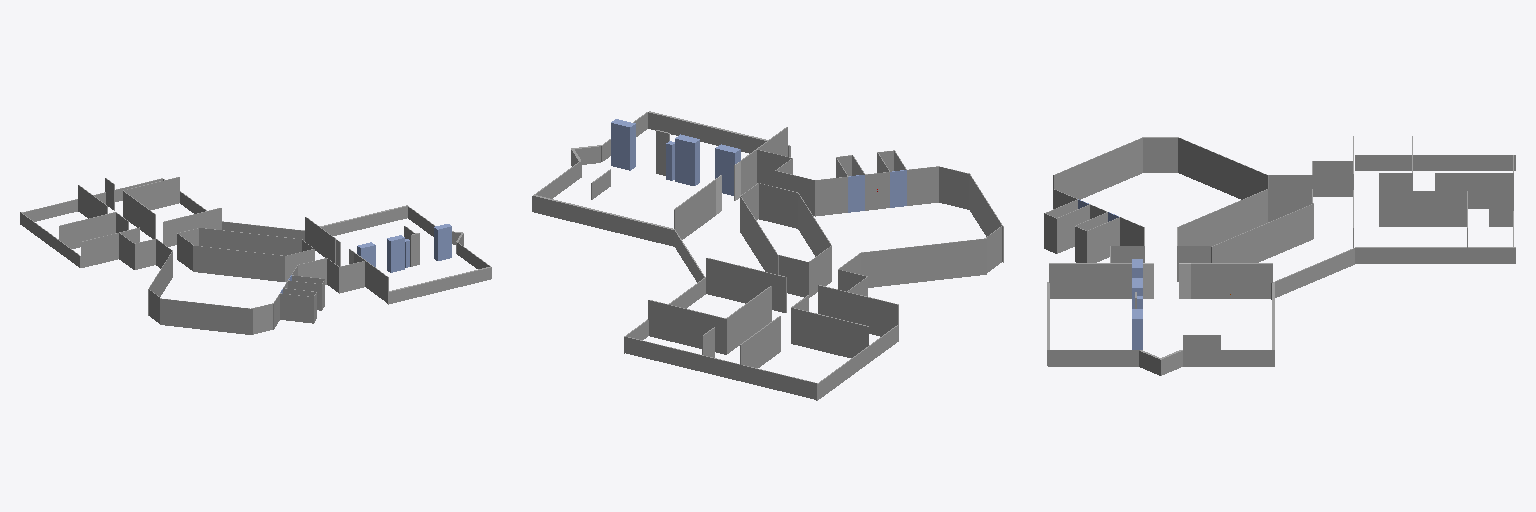
--- Facts derived from the render (not from the file) ---
3 views of the same robot in one strip: view 1: azimuth 30°, elevation 25°; view 2: azimuth 150°, elevation 25°; view 3: azimuth 270°, elevation 25° (orthographic).
Robot: ipa-apartment — 64 links, 63 joints (4 prismatic, 59 fixed); root link dummy_link; default pose: all joints at 0.
Links seen in each view (by area): view 1: wall_ext15, wall_ext13, wall_ext21, wall_06, wall_office_10, wall_office_01, wall_office_09, wall_office_00, wall_01, wall_office_04, wall_elv8, wall_office_05 (+11 smaller); view 2: wall_ext14, wall_office_04, wall_office_10, wall_office_00, wall_office_09, wall_01, wall_office_01, wall_06, wall_office_05, wall_00, wall_office_03, wall_ext6 (+21 smaller); view 3: wall_ext21, wall_office_05, wall_07, wall_ext14, wall_ext15, wall_00, wall_ext13, wall_office_02, wall_office_03, wall_office_07, wall_05, wall_02 (+12 smaller).
Boxes of the visible links, <box> form: wall_ext15: <box>160,298,252,334</box>; wall_ext13: <box>193,245,284,281</box>; wall_ext21: <box>199,228,302,255</box>; wall_06: <box>387,267,491,304</box>; wall_office_10: <box>59,212,115,248</box>; wall_office_01: <box>81,227,139,267</box>; wall_office_09: <box>123,177,179,209</box>; wall_office_00: <box>163,208,221,246</box>; wall_01: <box>304,205,407,235</box>; wall_office_04: <box>22,178,162,221</box>; wall_elv8: <box>280,293,313,323</box>; wall_office_05: <box>123,191,155,238</box>; wall_ext14: <box>861,238,986,287</box>; wall_office_04: <box>625,337,816,399</box>; wall_office_10: <box>791,308,868,357</box>; wall_office_00: <box>706,258,786,312</box>; wall_office_09: <box>648,300,725,354</box>; wall_01: <box>532,195,673,246</box>; wall_office_01: <box>818,285,898,336</box>; wall_06: <box>648,111,790,156</box>; wall_office_05: <box>726,286,771,354</box>; wall_00: <box>674,179,715,239</box>; wall_office_03: <box>816,325,898,400</box>; wall_ext6: <box>759,183,797,228</box>; wall_ext21: <box>1211,203,1313,262</box>; wall_office_05: <box>1379,191,1466,226</box>; wall_07: <box>1049,263,1131,298</box>; wall_ext14: <box>1178,137,1268,199</box>; wall_ext15: <box>1053,137,1142,208</box>; wall_00: <box>1191,263,1272,298</box>; wall_ext13: <box>1178,189,1267,246</box>; wall_office_02: <box>1355,247,1515,263</box>; wall_office_03: <box>1355,155,1515,170</box>; wall_office_07: <box>1435,173,1513,208</box>; wall_05: <box>1048,350,1139,366</box>; wall_02: <box>1183,350,1271,366</box>.
Bounding box of the posed robot: 24.78 × 24.04 × 2.41 m (x, y, z).
3 mesh visuals loaded from 3 distinct referenced files (3 Collada DAE).

The robot description file, URDF, robot "ipa-apartment":
<?xml version="1.0" ?>
<!-- =================================================================================== -->
<!-- |    This document was autogenerated by xacro from ipa-apartment.urdf.xacro       | -->
<!-- |    EDITING THIS FILE BY HAND IS NOT RECOMMENDED                                 | -->
<!-- =================================================================================== -->
<robot name="ipa-apartment" xmlns:controller="http://playerstage.sourceforge.net/gazebo/xmlschema/#controller" xmlns:interface="http://playerstage.sourceforge.net/gazebo/xmlschema/#interface" xmlns:sensor="http://playerstage.sourceforge.net/gazebo/xmlschema/#sensor" xmlns:xacro="http://ros.org/wiki/xacro">
  <material name="IPA/Blue">
    <color rgba="0.0 0.0 0.8 1.0"/>
  </material>
  <material name="IPA/Green">
    <color rgba="0.0 0.8 0.0 1.0"/>
  </material>
  <material name="IPA/Grey">
    <color rgba="0.7 0.7 0.7 1.0"/>
  </material>
  <material name="IPA/Grey2">
    <color rgba="0.81 0.81 0.81 1.0"/>
  </material>
  <material name="IPA/Red">
    <color rgba="0.8 0.0 0.0 1.0"/>
  </material>
  <material name="IPA/White">
    <color rgba="1.0 1.0 1.0 1.0"/>
  </material>
  <material name="IPA/Black">
    <color rgba="0.0 0.0 0.0 1.0"/>
  </material>
  <material name="IPA/Transparent">
    <color rgba="0.81 0.81 0.81 0.0"/>
  </material>
  <material name="IPA/LightBlue">
    <color rgba="0.624 0.698 0.858 1"/>
  </material>
  <!-- apartment -->
  <!-- office-->
  <!-- landing-->
  <link name="wall_ext15">
    <inertial>
      <origin xyz="0 0 0"/>
      <mass value="5.0"/>
      <inertia ixx="0.0" ixy="0.0" ixz="0.0" iyy="0.0" iyz="0.0" izz="0.0"/>
    </inertial>
    <visual>
      <origin xyz="0 0 0"/>
      <geometry>
        <box size="0.04 6.6 2"/>
      </geometry>
      <material name="IPA/Grey"/>
    </visual>
    <collision>
      <origin xyz="0 0 0"/>
      <geometry>
        <box size="0.04 6.6 2"/>
      </geometry>
    </collision>
  </link>
  <gazebo reference="wall_ext15">
    <material>IPA/WallApartment</material>
  </gazebo>
  <joint name="joint_wall_ext15" type="fixed">
    <origin rpy="0 0 0.7854" xyz="-3.15 -3.15 1.0"/>
    <parent link="origin_landing"/>
    <child link="wall_ext15"/>
  </joint>
  <link name="wall_ext16">
    <inertial>
      <origin xyz="0 0 0"/>
      <mass value="5.0"/>
      <inertia ixx="0.0" ixy="0.0" ixz="0.0" iyy="0.0" iyz="0.0" izz="0.0"/>
    </inertial>
    <visual>
      <origin xyz="0 0 0"/>
      <geometry>
        <box size="0.04 1.8 2"/>
      </geometry>
      <material name="IPA/Grey"/>
    </visual>
    <collision>
      <origin xyz="0 0 0"/>
      <geometry>
        <box size="0.04 1.8 2"/>
      </geometry>
    </collision>
  </link>
  <gazebo reference="wall_ext16">
    <material>IPA/WallApartment</material>
  </gazebo>
  <joint name="joint_wall_ext16" type="fixed">
    <origin rpy="0 0 0" xyz="-5.4 0 1.0"/>
    <parent link="origin_landing"/>
    <child link="wall_ext16"/>
  </joint>
  <link name="wall_ext17">
    <inertial>
      <origin xyz="0 0 0"/>
      <mass value="5.0"/>
      <inertia ixx="0.0" ixy="0.0" ixz="0.0" iyy="0.0" iyz="0.0" izz="0.0"/>
    </inertial>
    <visual>
      <origin xyz="0 0 0"/>
      <geometry>
        <box size="1.8 0.04 2"/>
      </geometry>
      <material name="IPA/Grey"/>
    </visual>
    <collision>
      <origin xyz="0 0 0"/>
      <geometry>
        <box size="1.8 0.04 2"/>
      </geometry>
    </collision>
  </link>
  <gazebo reference="wall_ext17">
    <material>IPA/WallApartment</material>
  </gazebo>
  <joint name="joint_wall_ext17" type="fixed">
    <origin rpy="0 0 0" xyz="0 -5.4 1.0"/>
    <parent link="origin_landing"/>
    <child link="wall_ext17"/>
  </joint>
  <link name="wall_ext21">
    <inertial>
      <origin xyz="0 0 0"/>
      <mass value="5.0"/>
      <inertia ixx="0.0" ixy="0.0" ixz="0.0" iyy="0.0" iyz="0.0" izz="0.0"/>
    </inertial>
    <visual>
      <origin xyz="0 0 0"/>
      <geometry>
        <box size="0.04 7.4 2"/>
      </geometry>
      <material name="IPA/Grey"/>
    </visual>
    <collision>
      <origin xyz="0 0 0"/>
      <geometry>
        <box size="0.04 7.4 2"/>
      </geometry>
    </collision>
  </link>
  <gazebo reference="wall_ext21">
    <material>IPA/WallApartment</material>
  </gazebo>
  <joint name="joint_wall_ext21" type="fixed">
    <origin rpy="0 0 0.7854" xyz="5.2 5.2 1.0"/>
    <parent link="origin_landing"/>
    <child link="wall_ext21"/>
  </joint>
  <link name="wall_ext22">
    <inertial>
      <origin xyz="0 0 0"/>
      <mass value="5.0"/>
      <inertia ixx="0.0" ixy="0.0" ixz="0.0" iyy="0.0" iyz="0.0" izz="0.0"/>
    </inertial>
    <visual>
      <origin xyz="0 0 0"/>
      <geometry>
        <box size="0.06 6 0.92"/>
      </geometry>
      <material name="IPA/Grey"/>
    </visual>
    <collision>
      <origin xyz="0 0 0"/>
      <geometry>
        <box size="0.06 6 0.92"/>
      </geometry>
    </collision>
  </link>
  <gazebo reference="wall_ext22">
    <material>IPA/WallApartment</material>
  </gazebo>
  <joint name="joint_wall_ext22" type="fixed">
    <origin rpy="0 0 0.7854" xyz="7.77 7.77 0.46"/>
    <parent link="origin_landing"/>
    <child link="wall_ext22"/>
  </joint>
  <!-- elevator-->
  <!-- cabinets-->
  <!-- kitchen-->
  <!-- wall_ipa-->
  <!--Parameters-->
  <link name="dummy_link">
    <inertial>
      <origin xyz="0 0 0"/>
      <mass value="5.0"/>
      <inertia ixx="0.0" ixy="0.0" ixz="0.0" iyy="0.0" iyz="0.0" izz="0.0"/>
    </inertial>
    <visual>
      <origin xyz="0 0 0"/>
      <geometry>
        <box size="0.00 0.00 0.00"/>
      </geometry>
    </visual>
    <collision>
      <origin xyz="0 0 0"/>
      <geometry>
        <box size="0.00 0.00 0.00"/>
      </geometry>
    </collision>
  </link>
  <link name="wall_00">
    <inertial>
      <origin xyz="0 0 0"/>
      <mass value="5.0"/>
      <inertia ixx="0.0" ixy="0.0" ixz="0.0" iyy="0.0" iyz="0.0" izz="0.0"/>
    </inertial>
    <visual>
      <origin xyz="0 0 0"/>
      <geometry>
        <box size="0.06 4.16 2"/>
      </geometry>
      <material name="IPA/Grey"/>
    </visual>
    <collision>
      <origin xyz="0 0 0"/>
      <geometry>
        <box size="0.06 4.16 2"/>
      </geometry>
    </collision>
  </link>
  <gazebo reference="wall_00">
    <material>IPA/WallApartment</material>
  </gazebo>
  <joint name="joint_wall_00" type="fixed">
    <origin rpy="0 0 0" xyz="-2.091 -0.45 1.0"/>
    <parent link="dummy_link"/>
    <child link="wall_00"/>
  </joint>
  <link name="wall_01">
    <inertial>
      <origin xyz="0 0 0"/>
      <mass value="5.0"/>
      <inertia ixx="0.0" ixy="0.0" ixz="0.0" iyy="0.0" iyz="0.0" izz="0.0"/>
    </inertial>
    <visual>
      <origin xyz="0 0 0"/>
      <geometry>
        <box size=" 8.2 0.15 0.92"/>
      </geometry>
      <material name="IPA/Grey"/>
    </visual>
    <collision>
      <origin xyz="0 0 0"/>
      <geometry>
        <box size="8.2 0.15 0.92"/>
      </geometry>
    </collision>
  </link>
  <gazebo reference="wall_01">
    <material>IPA/WallApartment</material>
  </gazebo>
  <joint name="joint_wall_01" type="fixed">
    <origin rpy="0 0 0" xyz="1.969 1.68 0.46"/>
    <parent link="dummy_link"/>
    <child link="wall_01"/>
  </joint>
  <link name="wall_02">
    <inertial>
      <origin xyz="0 0 0"/>
      <mass value="5.0"/>
      <inertia ixx="0.0" ixy="0.0" ixz="0.0" iyy="0.0" iyz="0.0" izz="0.0"/>
    </inertial>
    <visual>
      <origin xyz="0 0 0"/>
      <geometry>
        <box size="0.06 4.7 0.92"/>
      </geometry>
      <material name="IPA/Grey"/>
    </visual>
    <collision>
      <origin xyz="0 0 0"/>
      <geometry>
        <box size="0.06 4.7 0.92"/>
      </geometry>
    </collision>
  </link>
  <gazebo reference="wall_02">
    <material>IPA/WallApartment</material>
  </gazebo>
  <joint name="joint_wall_02" type="fixed">
    <origin rpy="0 0 0" xyz="6.029 -0.67 0.46"/>
    <parent link="dummy_link"/>
    <child link="wall_02"/>
  </joint>
  <link name="wall_03">
    <inertial>
      <origin xyz="0 0 0"/>
      <mass value="5.0"/>
      <inertia ixx="0.0" ixy="0.0" ixz="0.0" iyy="0.0" iyz="0.0" izz="0.0"/>
    </inertial>
    <visual>
      <origin xyz="0 0 0"/>
      <geometry>
        <box size=" 0.15 1.6 0.92"/>
      </geometry>
      <material name="IPA/Grey"/>
    </visual>
    <collision>
      <origin xyz="0 0 0"/>
      <geometry>
        <box size="0.15 1.5 0.92"/>
      </geometry>
    </collision>
  </link>
  <gazebo reference="wall_03">
    <material>IPA/WallApartment</material>
  </gazebo>
  <joint name="joint_wall_03" type="fixed">
    <origin rpy="0 0 0.785398" xyz="6.605 -3.57 0.46"/>
    <parent link="dummy_link"/>
    <child link="wall_03"/>
  </joint>
  <link name="wall_04">
    <inertial>
      <origin xyz="0 0 0"/>
      <mass value="5.0"/>
      <inertia ixx="0.0" ixy="0.0" ixz="0.0" iyy="0.0" iyz="0.0" izz="0.0"/>
    </inertial>
    <visual>
      <origin xyz="0 0 0"/>
      <geometry>
        <box size="0.15 1.55 0.92"/>
      </geometry>
      <material name="IPA/Grey"/>
    </visual>
    <collision>
      <origin xyz="0 0 0"/>
      <geometry>
        <box size="0.15 1.5 0.92"/>
      </geometry>
    </collision>
  </link>
  <gazebo reference="wall_04">
    <material>IPA/WallApartment</material>
  </gazebo>
  <joint name="joint_wall_04" type="fixed">
    <origin rpy="0 0 -0.785398" xyz="6.605 -4.57 0.46"/>
    <parent link="dummy_link"/>
    <child link="wall_04"/>
  </joint>
  <link name="wall_05">
    <inertial>
      <origin xyz="0 0 0"/>
      <mass value="5.0"/>
      <inertia ixx="0.0" ixy="0.0" ixz="0.0" iyy="0.0" iyz="0.0" izz="0.0"/>
    </inertial>
    <visual>
      <origin xyz="0 0 0"/>
      <geometry>
        <box size="0.06 4.7 0.92"/>
      </geometry>
      <material name="IPA/Grey"/>
    </visual>
    <collision>
      <origin xyz="0 0 0"/>
      <geometry>
        <box size="0.06 4.7 0.92"/>
      </geometry>
    </collision>
  </link>
  <gazebo reference="wall_05">
    <material>IPA/WallApartment</material>
  </gazebo>
  <joint name="joint_wall_05" type="fixed">
    <origin rpy="0 0 0" xyz="6.029 -7.47 0.46"/>
    <parent link="dummy_link"/>
    <child link="wall_05"/>
  </joint>
  <link name="wall_06">
    <inertial>
      <origin xyz="0 0 0"/>
      <mass value="5.0"/>
      <inertia ixx="0.0" ixy="0.0" ixz="0.0" iyy="0.0" iyz="0.0" izz="0.0"/>
    </inertial>
    <visual>
      <origin xyz="0 0 0"/>
      <geometry>
        <box size=" 8.2 0.15 0.92"/>
      </geometry>
      <material name="IPA/Grey"/>
    </visual>
    <collision>
      <origin xyz="0 0 0"/>
      <geometry>
        <box size="8.2 0.17 0.92"/>
      </geometry>
    </collision>
  </link>
  <gazebo reference="wall_06">
    <material>IPA/WallApartment</material>
  </gazebo>
  <joint name="joint_wall_06" type="fixed">
    <origin rpy="0 0 0" xyz="1.919 -9.82 0.46"/>
    <parent link="dummy_link"/>
    <child link="wall_06"/>
  </joint>
  <link name="wall_07">
    <inertial>
      <origin xyz="0 0 0"/>
      <mass value="5.0"/>
      <inertia ixx="0.0" ixy="0.0" ixz="0.0" iyy="0.0" iyz="0.0" izz="0.0"/>
    </inertial>
    <visual>
      <origin xyz="0 0 0"/>
      <geometry>
        <box size="0.06 4.7 2"/>
      </geometry>
      <material name="IPA/Grey"/>
    </visual>
    <collision>
      <origin xyz="0 0 0"/>
      <geometry>
        <box size="0.06 4.7 2"/>
      </geometry>
    </collision>
  </link>
  <gazebo reference="wall_07">
    <material>IPA/WallApartment</material>
  </gazebo>
  <joint name="joint_wall_07" type="fixed">
    <origin rpy="0 0 0" xyz="-2.091 -7.42 1.0"/>
    <parent link="dummy_link"/>
    <child link="wall_07"/>
  </joint>
  <link name="wall_08">
    <inertial>
      <origin xyz="0 0 0"/>
      <mass value="5.0"/>
      <inertia ixx="0.0" ixy="0.0" ixz="0.0" iyy="0.0" iyz="0.0" izz="0.0"/>
    </inertial>
    <visual>
      <origin xyz="0 0 0"/>
      <geometry>
        <box size="0.06 1.9 0.92"/>
      </geometry>
      <material name="IPA/Grey"/>
    </visual>
    <collision>
      <origin xyz="0 0 0"/>
      <geometry>
        <box size="0.06 1.9 0.92"/>
      </geometry>
    </collision>
  </link>
  <gazebo reference="wall_08">
    <material>IPA/WallApartment</material>
  </gazebo>
  <joint name="joint_wall_08" type="fixed">
    <origin rpy="0 0 0" xyz="4.229 -1.97 0.46"/>
    <parent link="dummy_link"/>
    <child link="wall_08"/>
  </joint>
  <link name="door_00">
    <inertial>
      <origin xyz="0 0 0"/>
      <mass value="5.0"/>
      <inertia ixx="0.0" ixy="0.0" ixz="0.0" iyy="0.0" iyz="0.0" izz="0.0"/>
    </inertial>
    <visual>
      <origin xyz="0 0 0"/>
      <geometry>
        <box size="0.04 0.62 2"/>
      </geometry>
      <material name="IPA/Transparent"/>
    </visual>
    <collision>
      <origin xyz="0 0 0"/>
      <geometry>
        <box size="0.04 0.62 2"/>
      </geometry>
    </collision>
  </link>
  <gazebo reference="door_00">
    <material>IPA/Wall2</material>
  </gazebo>
  <joint name="joint_door_00" type="fixed">
    <origin rpy="0 0 0" xyz="-2.091 -2.85 1.0"/>
    <parent link="dummy_link"/>
    <child link="door_00"/>
  </joint>
  <link name="door_01">
    <inertial>
      <origin xyz="0 0 0"/>
      <mass value="5.0"/>
      <inertia ixx="0.0" ixy="0.0" ixz="0.0" iyy="0.0" iyz="0.0" izz="0.0"/>
    </inertial>
    <visual>
      <origin xyz="0 0 0"/>
      <geometry>
        <box size="0.04 0.62 2"/>
      </geometry>
      <material name="IPA/Transparent"/>
    </visual>
    <collision>
      <origin xyz="0 0 0"/>
      <geometry>
        <box size="0.04 0.62 2"/>
      </geometry>
    </collision>
  </link>
  <gazebo reference="door_01">
    <material>IPA/Wall2</material>
  </gazebo>
  <joint name="joint_door_01" type="fixed">
    <origin rpy="0 0 0" xyz="-2.091 -4.75 1.0"/>
    <parent link="dummy_link"/>
    <child link="door_01"/>
  </joint>
  <link name="origin_landing">
    <inertial>
      <origin xyz="0 0 0"/>
      <mass value="0.0"/>
      <inertia ixx="0.0" ixy="0.0" ixz="0.0" iyy="0.0" iyz="0.0" izz="0.0"/>
    </inertial>
    <visual>
      <origin xyz="0 0 0"/>
      <geometry>
        <box size="0 0 0"/>
      </geometry>
    </visual>
    <collision>
      <origin xyz="0 0 0"/>
      <geometry>
        <box size="0 0 0"/>
      </geometry>
    </collision>
  </link>
  <joint name="joint_origin_landing" type="fixed">
    <origin rpy="0 0 0" xyz="-11.931 -4.07 0"/>
    <parent link="dummy_link"/>
    <child link="origin_landing"/>
  </joint>
  <link name="wall_ext2">
    <inertial>
      <origin xyz="0 0 0"/>
      <mass value="5.0"/>
      <inertia ixx="0.0" ixy="0.0" ixz="0.0" iyy="0.0" iyz="0.0" izz="0.0"/>
    </inertial>
    <visual>
      <origin xyz="0 0 0"/>
      <geometry>
        <box size="2.1 0.04 2"/>
      </geometry>
      <material name="IPA/Grey"/>
    </visual>
    <collision>
      <origin xyz="0 0 0"/>
      <geometry>
        <box size="2.1 0.04 2"/>
      </geometry>
    </collision>
  </link>
  <gazebo reference="wall_ext2">
    <material>IPA/WallApartment</material>
  </gazebo>
  <joint name="joint_wall_ext2" type="fixed">
    <origin rpy="0 0 0" xyz="8.8 -2.565 1.0"/>
    <parent link="origin_landing"/>
    <child link="wall_ext2"/>
  </joint>
  <link name="wall_ext3">
    <inertial>
      <origin xyz="0 0 0"/>
      <mass value="5.0"/>
      <inertia ixx="0.0" ixy="0.0" ixz="0.0" iyy="0.0" iyz="0.0" izz="0.0"/>
    </inertial>
    <visual>
      <origin xyz="0 0 0"/>
      <geometry>
        <box size="0.04 1.73 2"/>
      </geometry>
      <material name="IPA/Grey"/>
    </visual>
    <collision>
      <origin xyz="0 0 0"/>
      <geometry>
        <box size="0.04 1.73 2"/>
      </geometry>
    </collision>
  </link>
  <gazebo reference="wall_ext3">
    <material>IPA/WallApartment</material>
  </gazebo>
  <joint name="joint_wall_ext3" type="fixed">
    <origin rpy="0 0 0" xyz="7.75 -1.7 1.0"/>
    <parent link="origin_landing"/>
    <child link="wall_ext3"/>
  </joint>
  <link name="wall_ext4">
    <inertial>
      <origin xyz="0 0 0"/>
      <mass value="5.0"/>
      <inertia ixx="0.0" ixy="0.0" ixz="0.0" iyy="0.0" iyz="0.0" izz="0.0"/>
    </inertial>
    <visual>
      <origin xyz="0 0 0"/>
      <geometry>
        <box size="0.04 1.73 2"/>
      </geometry>
      <material name="IPA/Grey"/>
    </visual>
    <collision>
      <origin xyz="0 0 0"/>
      <geometry>
        <box size="0.04 1.73 2"/>
      </geometry>
    </collision>
  </link>
  <gazebo reference="wall_ext4">
    <material>IPA/WallApartment</material>
  </gazebo>
  <joint name="joint_wall_ext4" type="fixed">
    <origin rpy="0 0 0" xyz="7.75 1.7 1.0"/>
    <parent link="origin_landing"/>
    <child link="wall_ext4"/>
  </joint>
  <link name="wall_ext5">
    <inertial>
      <origin xyz="0 0 0"/>
      <mass value="5.0"/>
      <inertia ixx="0.0" ixy="0.0" ixz="0.0" iyy="0.0" iyz="0.0" izz="0.0"/>
    </inertial>
    <visual>
      <origin xyz="0 0 0"/>
      <geometry>
        <box size="2.34 0.04 2"/>
      </geometry>
      <material name="IPA/Grey"/>
    </visual>
    <collision>
      <origin xyz="0 0 0"/>
      <geometry>
        <box size="6.73 0.04 2"/>
      </geometry>
    </collision>
  </link>
  <gazebo reference="wall_ext5">
    <material>IPA/WallApartment</material>
  </gazebo>
  <joint name="joint_wall_ext5" type="fixed">
    <origin rpy="0 0 0" xyz="6.6 -0.85 1.0"/>
    <parent link="origin_landing"/>
    <child link="wall_ext5"/>
  </joint>
  <link name="wall_ext6">
    <inertial>
      <origin xyz="0 0 0"/>
      <mass value="5.0"/>
      <inertia ixx="0.0" ixy="0.0" ixz="0.0" iyy="0.0" iyz="0.0" izz="0.0"/>
    </inertial>
    <visual>
      <origin xyz="0 0 0"/>
      <geometry>
        <box size="2.34 0.04 2"/>
      </geometry>
      <material name="IPA/Grey"/>
    </visual>
    <collision>
      <origin xyz="0 0 0"/>
      <geometry>
        <box size="2.34 0.04 2"/>
      </geometry>
    </collision>
  </link>
  <gazebo reference="wall_ext6">
    <material>IPA/WallApartment</material>
  </gazebo>
  <joint name="joint_wall_ext6" type="fixed">
    <origin rpy="0 0 0" xyz="6.6 0.85 1.0"/>
    <parent link="origin_landing"/>
    <child link="wall_ext6"/>
  </joint>
  <link name="wall_ext8">
    <inertial>
      <origin xyz="0 0 0"/>
      <mass value="5.0"/>
      <inertia ixx="0.0" ixy="0.0" ixz="0.0" iyy="0.0" iyz="0.0" izz="0.0"/>
    </inertial>
    <visual>
      <origin xyz="0 0 0"/>
      <geometry>
        <box size="0.04 2.1 2"/>
      </geometry>
      <material name="IPA/Grey"/>
    </visual>
    <collision>
      <origin xyz="0 0 0"/>
      <geometry>
        <box size="0.04 2.1 2"/>
      </geometry>
    </collision>
  </link>
  <gazebo reference="wall_ext8">
    <material>IPA/WallApartment</material>
  </gazebo>
  <joint name="joint_wall_ext8" type="fixed">
    <origin rpy="0 0 0" xyz="-2.565 8.8 1.0"/>
    <parent link="origin_landing"/>
    <child link="wall_ext8"/>
  </joint>
  <link name="wall_ext9">
    <inertial>
      <origin xyz="0 0 0"/>
      <mass value="5.0"/>
      <inertia ixx="0.0" ixy="0.0" ixz="0.0" iyy="0.0" iyz="0.0" izz="0.0"/>
    </inertial>
    <visual>
      <origin xyz="0 0 0"/>
      <geometry>
        <box size="1.73 0.04 2"/>
      </geometry>
      <material name="IPA/Grey"/>
    </visual>
    <collision>
      <origin xyz="0 0 0"/>
      <geometry>
        <box size="1.73 0.04 2"/>
      </geometry>
    </collision>
  </link>
  <gazebo reference="wall_ext9">
    <material>IPA/WallApartment</material>
  </gazebo>
  <joint name="joint_wall_ext9" type="fixed">
    <origin rpy="0 0 0" xyz="-1.7 7.75 1.0"/>
    <parent link="origin_landing"/>
    <child link="wall_ext9"/>
  </joint>
  <link name="wall_ext10">
    <inertial>
      <origin xyz="0 0 0"/>
      <mass value="5.0"/>
      <inertia ixx="0.0" ixy="0.0" ixz="0.0" iyy="0.0" iyz="0.0" izz="0.0"/>
    </inertial>
    <visual>
      <origin xyz="0 0 0"/>
      <geometry>
        <box size="1.73 0.04 2"/>
      </geometry>
      <material name="IPA/Grey"/>
    </visual>
    <collision>
      <origin xyz="0 0 0"/>
      <geometry>
        <box size="1.73 0.04 2"/>
      </geometry>
    </collision>
  </link>
  <gazebo reference="wall_ext10">
    <material>IPA/WallApartment</material>
  </gazebo>
  <joint name="joint_wall_ext10" type="fixed">
    <origin rpy="0 0 0" xyz="1.7 7.75 1.0"/>
    <parent link="origin_landing"/>
    <child link="wall_ext10"/>
  </joint>
  <link name="wall_ext11">
    <inertial>
      <origin xyz="0 0 0"/>
      <mass value="5.0"/>
      <inertia ixx="0.0" ixy="0.0" ixz="0.0" iyy="0.0" iyz="0.0" izz="0.0"/>
    </inertial>
    <visual>
      <origin xyz="0 0 0"/>
      <geometry>
        <box size="0.04 2.34 2"/>
      </geometry>
      <material name="IPA/Grey"/>
    </visual>
    <collision>
      <origin xyz="0 0 0"/>
      <geometry>
        <box size="0.04 2.34 2"/>
      </geometry>
    </collision>
  </link>
  <gazebo reference="wall_ext11">
    <material>IPA/WallApartment</material>
  </gazebo>
  <joint name="joint_wall_ext11" type="fixed">
    <origin rpy="0 0 0" xyz="-0.85 6.6 1.0"/>
    <parent link="origin_landing"/>
    <child link="wall_ext11"/>
  </joint>
  <link name="wall_ext12">
    <inertial>
      <origin xyz="0 0 0"/>
      <mass value="5.0"/>
      <inertia ixx="0.0" ixy="0.0" ixz="0.0" iyy="0.0" iyz="0.0" izz="0.0"/>
    </inertial>
    <visual>
      <origin xyz="0 0 0"/>
      <geometry>
        <box size="0.04 2.34 2"/>
      </geometry>
      <material name="IPA/Grey"/>
    </visual>
    <collision>
      <origin xyz="0 0 0"/>
      <geometry>
        <box size="0.04 2.34 2"/>
      </geometry>
    </collision>
  </link>
  <gazebo reference="wall_ext12">
    <material>IPA/WallApartment</material>
  </gazebo>
  <joint name="joint_wall_ext12" type="fixed">
    <origin rpy="0 0 0" xyz="0.85 6.6 1.0"/>
    <parent link="origin_landing"/>
    <child link="wall_ext12"/>
  </joint>
  <link name="wall_ext13">
    <inertial>
      <origin xyz="0 0 0"/>
      <mass value="5.0"/>
      <inertia ixx="0.0" ixy="0.0" ixz="0.0" iyy="0.0" iyz="0.0" izz="0.0"/>
    </inertial>
    <visual>
      <origin xyz="0 0 0"/>
      <geometry>
        <box size="0.04 6.6 2"/>
      </geometry>
      <material name="IPA/Grey"/>
    </visual>
    <collision>
      <origin xyz="0 0 0"/>
      <geometry>
        <box size="0.04 6.6 2"/>
      </geometry>
    </collision>
  </link>
  <gazebo reference="wall_ext13">
    <material>IPA/WallApartment</material>
  </gazebo>
  <joint name="joint_wall_ext13" type="fixed">
    <origin rpy="0 0 0.7854" xyz="3.15 3.15 1.0"/>
    <parent link="origin_landing"/>
    <child link="wall_ext13"/>
  </joint>
  <link name="wall_ext14">
    <inertial>
      <origin xyz="0 0 0"/>
      <mass value="5.0"/>
      <inertia ixx="0.0" ixy="0.0" ixz="0.0" iyy="0.0" iyz="0.0" izz="0.0"/>
    </inertial>
    <visual>
      <origin xyz="0 0 0"/>
      <geometry>
        <box size="0.04 6.6 2"/>
      </geometry>
      <material name="IPA/Grey"/>
    </visual>
    <collision>
      <origin xyz="0 0 0"/>
      <geometry>
        <box size="0.04 6.6 2"/>
      </geometry>
    </collision>
  </link>
  <gazebo reference="wall_ext14">
    <material>IPA/WallApartment</material>
  </gazebo>
  <joint name="joint_wall_ext14" type="fixed">
    <origin rpy="0 0 -0.7854" xyz="-3.15 3.15 1.0"/>
    <parent link="origin_landing"/>
    <child link="wall_ext14"/>
  </joint>
  <link name="origin_office">
    <inertial>
      <origin xyz="0 0 0"/>
      <mass value="0.0"/>
      <inertia ixx="0.0" ixy="0.0" ixz="0.0" iyy="0.0" iyz="0.0" izz="0.0"/>
    </inertial>
    <visual>
      <origin xyz="0 0 0"/>
      <geometry>
        <box size="0 0 0"/>
      </geometry>
    </visual>
    <collision>
      <origin xyz="0 0 0"/>
      <geometry>
        <box size="0 0 0"/>
      </geometry>
    </collision>
  </link>
  <joint name="joint_origin_office" type="fixed">
    <origin rpy="0 0 0" xyz="0 14 0"/>
    <parent link="origin_landing"/>
    <child link="origin_office"/>
  </joint>
  <link name="wall_office_00">
    <inertial>
      <origin xyz="0 0 0"/>
      <mass value="5.0"/>
      <inertia ixx="0.0" ixy="0.0" ixz="0.0" iyy="0.0" iyz="0.0" izz="0.0"/>
    </inertial>
    <visual>
      <origin xyz="0 0 0"/>
      <geometry>
        <box size="4.65 0.06 2"/>
      </geometry>
      <material name="IPA/Grey"/>
    </visual>
    <collision>
      <origin xyz="0 0 0"/>
      <geometry>
        <box size="4.65 0.06 2"/>
      </geometry>
    </collision>
  </link>
  <gazebo reference="wall_office_00">
    <material>IPA/WallApartment</material>
  </gazebo>
  <joint name="joint_wall_office_00" type="fixed">
    <origin rpy="0 0 0" xyz="3.25 -4.15 1.0"/>
    <parent link="origin_office"/>
    <child link="wall_office_00"/>
  </joint>
  <link name="wall_office_01">
    <inertial>
      <origin xyz="0 0 0"/>
      <mass value="5.0"/>
      <inertia ixx="0.0" ixy="0.0" ixz="0.0" iyy="0.0" iyz="0.0" izz="0.0"/>
    </inertial>
    <visual>
      <origin xyz="0 0 0"/>
      <geometry>
        <box size="4.65 0.06 2"/>
      </geometry>
      <material name="IPA/Grey"/>
    </visual>
    <collision>
      <origin xyz="0 0 0"/>
      <geometry>
        <box size="4.65 0.06 2"/>
      </geometry>
    </collision>
  </link>
  <gazebo reference="wall_office_01">
    <material>IPA/WallApartment</material>
  </gazebo>
  <joint name="joint_wall_office_01" type="fixed">
    <origin rpy="0 0 0" xyz="-3.25 -4.15 1.0"/>
    <parent link="origin_office"/>
    <child link="wall_office_01"/>
  </joint>
  <link name="wall_office_02">
    <inertial>
      <origin xyz="0 0 0"/>
      <mass value="5.0"/>
      <inertia ixx="0.0" ixy="0.0" ixz="0.0" iyy="0.0" iyz="0.0" izz="0.0"/>
    </inertial>
    <visual>
      <origin xyz="0 0 0"/>
      <geometry>
        <box size="0.06 8.2 0.92"/>
      </geometry>
      <material name="IPA/Grey"/>
    </visual>
    <collision>
      <origin xyz="0 0 0"/>
      <geometry>
        <box size="0.06 8.2 0.92"/>
      </geometry>
    </collision>
  </link>
  <gazebo reference="wall_office_02">
    <material>IPA/WallApartment</material>
  </gazebo>
  <joint name="joint_wall_office_02" type="fixed">
    <origin rpy="0 0 0" xyz="5.6 0 0.46"/>
    <parent link="origin_office"/>
    <child link="wall_office_02"/>
  </joint>
  <link name="wall_office_03">
    <inertial>
      <origin xyz="0 0 0"/>
      <mass value="5.0"/>
      <inertia ixx="0.0" ixy="0.0" ixz="0.0" iyy="0.0" iyz="0.0" izz="0.0"/>
    </inertial>
    <visual>
      <origin xyz="0 0 0"/>
      <geometry>
        <box size="0.06 8.2 0.92"/>
      </geometry>
      <material name="IPA/Grey"/>
    </visual>
    <collision>
      <origin xyz="0 0 0"/>
      <geometry>
        <box size="0.06 8.2 0.92"/>
      </geometry>
    </collision>
  </link>
  <gazebo reference="wall_office_03">
    <material>IPA/WallApartment</material>
  </gazebo>
  <joint name="joint_wall_office_03" type="fixed">
    <origin rpy="0 0 0" xyz="-5.6 0 0.46"/>
    <parent link="origin_office"/>
    <child link="wall_office_03"/>
  </joint>
  <link name="wall_office_04">
    <inertial>
      <origin xyz="0 0 0"/>
      <mass value="5.0"/>
      <inertia ixx="0.0" ixy="0.0" ixz="0.0" iyy="0.0" iyz="0.0" izz="0.0"/>
    </inertial>
    <visual>
      <origin xyz="0 0 0"/>
      <geometry>
        <box size="11.2 0.06 0.92"/>
      </geometry>
      <material name="IPA/Grey"/>
    </visual>
    <collision>
      <origin xyz="0 0 0"/>
      <geometry>
        <box size="11.2 0.06 0.92"/>
      </geometry>
    </collision>
  </link>
  <gazebo reference="wall_office_04">
    <material>IPA/WallApartment</material>
  </gazebo>
  <joint name="joint_wall_office_04" type="fixed">
    <origin rpy="0 0 0" xyz="0 4 0.46"/>
    <parent link="origin_office"/>
    <child link="wall_office_04"/>
  </joint>
  <link name="wall_office_05">
    <inertial>
      <origin xyz="0 0 0"/>
      <mass value="5.0"/>
      <inertia ixx="0.0" ixy="0.0" ixz="0.0" iyy="0.0" iyz="0.0" izz="0.0"/>
    </inertial>
    <visual>
      <origin xyz="0 0 0"/>
      <geometry>
        <box size="0.06 4.51 2"/>
      </geometry>
      <material name="IPA/Grey"/>
    </visual>
    <collision>
      <origin xyz="0 0 0"/>
      <geometry>
        <box size="0.06 4.51 2"/>
      </geometry>
    </collision>
  </link>
  <gazebo reference="wall_office_05">
    <material>IPA/WallApartment</material>
  </gazebo>
  <joint name="joint_wall_office_05" type="fixed">
    <origin rpy="0 0 0" xyz="1.09 -0.615 1.0"/>
    <parent link="origin_office"/>
    <child link="wall_office_05"/>
  </joint>
  <link name="wall_office_06">
    <inertial>
      <origin xyz="0 0 0"/>
      <mass value="5.0"/>
      <inertia ixx="0.0" ixy="0.0" ixz="0.0" iyy="0.0" iyz="0.0" izz="0.0"/>
    </inertial>
    <visual>
      <origin xyz="0 0 0"/>
      <geometry>
        <box size="0.06 1.23 2"/>
      </geometry>
      <material name="IPA/Grey"/>
    </visual>
    <collision>
      <origin xyz="0 0 0"/>
      <geometry>
        <box size="0.06 1.23 2"/>
      </geometry>
    </collision>
  </link>
  <gazebo reference="wall_office_06">
    <material>IPA/WallApartment</material>
  </gazebo>
  <joint name="joint_wall_office_06" type="fixed">
    <origin rpy="0 0 0" xyz="1.09 3.385 1.0"/>
    <parent link="origin_office"/>
    <child link="wall_office_06"/>
  </joint>
  <link name="wall_office_07">
    <inertial>
      <origin xyz="0 0 0"/>
      <mass value="5.0"/>
      <inertia ixx="0.0" ixy="0.0" ixz="0.0" iyy="0.0" iyz="0.0" izz="0.0"/>
    </inertial>
    <visual>
      <origin xyz="0 0 0"/>
      <geometry>
        <box size="0.06 4.01 2"/>
      </geometry>
      <material name="IPA/Grey"/>
    </visual>
    <collision>
      <origin xyz="0 0 0"/>
      <geometry>
        <box size="0.06 4.01 2"/>
      </geometry>
    </collision>
  </link>
  <gazebo reference="wall_office_07">
    <material>IPA/WallApartment</material>
  </gazebo>
  <joint name="joint_wall_office_07" type="fixed">
    <origin rpy="0 0 0" xyz="-1.09 2 1.0"/>
    <parent link="origin_office"/>
    <child link="wall_office_07"/>
  </joint>
  <link name="wall_office_08">
    <inertial>
      <origin xyz="0 0 0"/>
      <mass value="5.0"/>
      <inertia ixx="0.0" ixy="0.0" ixz="0.0" iyy="0.0" iyz="0.0" izz="0.0"/>
    </inertial>
    <visual>
      <origin xyz="0 0 0"/>
      <geometry>
        <box size="0.06 1.73 2"/>
      </geometry>
      <material name="IPA/Grey"/>
    </visual>
    <collision>
      <origin xyz="0 0 0"/>
      <geometry>
        <box size="0.06 1.73 2"/>
      </geometry>
    </collision>
  </link>
  <gazebo reference="wall_office_08">
    <material>IPA/WallApartment</material>
  </gazebo>
  <joint name="joint_wall_office_08" type="fixed">
    <origin rpy="0 0 0" xyz="-1.09 -2 1.0"/>
    <parent link="origin_office"/>
    <child link="wall_office_08"/>
  </joint>
  <link name="wall_office_09">
    <inertial>
      <origin xyz="0 0 0"/>
      <mass value="5.0"/>
      <inertia ixx="0.0" ixy="0.0" ixz="0.0" iyy="0.0" iyz="0.0" izz="0.0"/>
    </inertial>
    <visual>
      <origin xyz="0 0 0"/>
      <geometry>
        <box size="4.5 0.06 2"/>
      </geometry>
      <material name="IPA/Grey"/>
    </visual>
    <collision>
      <origin xyz="0 0 0"/>
      <geometry>
        <box size="4.5 0.06 2"/>
      </geometry>
    </collision>
  </link>
  <gazebo reference="wall_office_09">
    <material>IPA/WallApartment</material>
  </gazebo>
  <joint name="joint_wall_office_09" type="fixed">
    <origin rpy="0 0 0" xyz="3.35 1.64 1.0"/>
    <parent link="origin_office"/>
    <child link="wall_office_09"/>
  </joint>
  <link name="wall_office_10">
    <inertial>
      <origin xyz="0 0 0"/>
      <mass value="5.0"/>
      <inertia ixx="0.0" ixy="0.0" ixz="0.0" iyy="0.0" iyz="0.0" izz="0.0"/>
    </inertial>
    <visual>
      <origin xyz="0 0 0"/>
      <geometry>
        <box size="4.5 0.06 2"/>
      </geometry>
      <material name="IPA/Grey"/>
    </visual>
    <collision>
      <origin xyz="0 0 0"/>
      <geometry>
        <box size="4.5 0.06 2"/>
      </geometry>
    </collision>
  </link>
  <gazebo reference="wall_office_10">
    <material>IPA/WallApartment</material>
  </gazebo>
  <joint name="joint_wall_office_10" type="fixed">
    <origin rpy="0 0 0" xyz="-3.35 -1.14 1.0"/>
    <parent link="origin_office"/>
    <child link="wall_office_10"/>
  </joint>
  <link name="origin_elevator">
    <inertial>
      <origin xyz="0 0 0"/>
      <mass value="0.0"/>
      <inertia ixx="0.0" ixy="0.0" ixz="0.0" iyy="0.0" iyz="0.0" izz="0.0"/>
    </inertial>
    <visual>
      <origin xyz="0 0 0"/>
      <geometry>
        <box size="0 0 0"/>
      </geometry>
    </visual>
    <collision>
      <origin xyz="0 0 0"/>
      <geometry>
        <box size="0 0 0"/>
      </geometry>
    </collision>
  </link>
  <joint name="joint_origin_elevator" type="fixed">
    <origin rpy="0 0 -0.7853981" xyz="3.15 -3.15 1.0"/>
    <parent link="origin_landing"/>
    <child link="origin_elevator"/>
  </joint>
  <link name="elevator_left">
    <inertial>
      <origin xyz="0 0 0"/>
      <mass value="5.0"/>
      <inertia ixx="0.0" ixy="0.0" ixz="0.0" iyy="0.0" iyz="0.0" izz="0.0"/>
    </inertial>
    <visual>
      <origin xyz="0 0 0"/>
      <geometry>
        <box size="0.04 0.87 2"/>
      </geometry>
      <material name="IPA/LightBlue"/>
    </visual>
    <collision>
      <origin xyz="0 0 0"/>
      <geometry>
        <box size="0.04 0.87 2"/>
      </geometry>
    </collision>
  </link>
  <gazebo reference="elevator_left">
    <material>IPA/Wall2</material>
  </gazebo>
  <joint name="elevator_left_joint" type="prismatic">
    <origin rpy="0 0 0" xyz="0 1.085 0"/>
    <parent link="origin_elevator"/>
    <child link="elevator_left"/>
    <axis xyz="0 1 0"/>
    <calibration rising="0.0"/>
    <dynamics damping="0.0" friction="0.0"/>
    <limit effort="100" lower="0" upper="0.87" velocity="1.0"/>
    <!--safety_controller k_velocity="10"/-->
  </joint>
  <transmission name="elevator_left_trans" type="pr2_mechanism_model/SimpleTransmission">
    <actuator name="elevator_left_motor"/>
    <joint name="elevator_left_joint"/>
    <mechanicalReduction>1</mechanicalReduction>
  </transmission>
  <link name="wall_elv5">
    <inertial>
      <origin xyz="0 0 0"/>
      <mass value="5.0"/>
      <inertia ixx="0.0" ixy="0.0" ixz="0.0" iyy="0.0" iyz="0.0" izz="0.0"/>
    </inertial>
    <visual>
      <origin xyz="0 0 0"/>
      <geometry>
        <box size="2.4 0.04 2"/>
      </geometry>
      <material name="IPA/Grey"/>
    </visual>
    <collision>
      <origin xyz="0 0 0"/>
      <geometry>
        <box size="2.4 0.04 2"/>
      </geometry>
    </collision>
  </link>
  <gazebo reference="wall_elv5">
    <material>IPA/WallApartment</material>
  </gazebo>
  <joint name="joint_wall_elv5" type="fixed">
    <origin rpy="0 0 0" xyz="1.2 1.52 0"/>
    <parent link="origin_elevator"/>
    <child link="wall_elv5"/>
  </joint>
  <link name="wall_elv6">
    <inertial>
      <origin xyz="0 0 0"/>
      <mass value="5.0"/>
      <inertia ixx="0.0" ixy="0.0" ixz="0.0" iyy="0.0" iyz="0.0" izz="0.0"/>
    </inertial>
    <visual>
      <origin xyz="0 0 0"/>
      <geometry>
        <box size="2.4 0.04 2"/>
      </geometry>
      <material name="IPA/Grey"/>
    </visual>
    <collision>
      <origin xyz="0 0 0"/>
      <geometry>
        <box size="2.4 0.04 2"/>
      </geometry>
    </collision>
  </link>
  <gazebo reference="wall_elv6">
    <material>IPA/WallApartment</material>
  </gazebo>
  <joint name="joint_wall_elv6" type="fixed">
    <origin rpy="0 0 0" xyz="1.2 0.65 0"/>
    <parent link="origin_elevator"/>
    <child link="wall_elv6"/>
  </joint>
  <link name="elevator_left2">
    <inertial>
      <origin xyz="0 0 0"/>
      <mass value="5.0"/>
      <inertia ixx="0.0" ixy="0.0" ixz="0.0" iyy="0.0" iyz="0.0" izz="0.0"/>
    </inertial>
    <visual>
      <origin xyz="0 0 0"/>
      <geometry>
        <box size="0.04 0.87 2"/>
      </geometry>
      <material name="IPA/Grey"/>
    </visual>
    <collision>
      <origin xyz="0 0 0"/>
      <geometry>
        <box size="0.04 0.87 2"/>
      </geometry>
    </collision>
  </link>
  <gazebo reference="elevator_left2">
    <material>IPA/WallApartment</material>
  </gazebo>
  <joint name="joint_elevator_left2" type="fixed">
    <origin rpy="0 0 0" xyz="2.4 1.085 0"/>
    <parent link="origin_elevator"/>
    <child link="elevator_left2"/>
  </joint>
  <link name="elevator_right">
    <inertial>
      <origin xyz="0 0 0"/>
      <mass value="5.0"/>
      <inertia ixx="0.0" ixy="0.0" ixz="0.0" iyy="0.0" iyz="0.0" izz="0.0"/>
    </inertial>
    <visual>
      <origin xyz="0 0 0"/>
      <geometry>
        <box size="0.04 0.87 2"/>
      </geometry>
      <material name="IPA/LightBlue"/>
    </visual>
    <collision>
      <origin xyz="0 0 0"/>
      <geometry>
        <box size="0.04 0.87 2"/>
      </geometry>
    </collision>
  </link>
  <gazebo reference="elevator_right">
    <material>IPA/Wall2</material>
  </gazebo>
  <joint name="elevator_right_joint" type="prismatic">
    <axis xyz="0 -1 0"/>
    <origin rpy="0 0 0" xyz="0 -1.085 0"/>
    <parent link="origin_elevator"/>
    <child link="elevator_right"/>
    <calibration rising="0.0"/>
    <dynamics damping="0.0" friction="0.0"/>
    <limit effort="100" lower="0" upper="0.87" velocity="1.0"/>
    <safety_controller k_velocity="10"/>
  </joint>
  <transmission name="elevator_right_trans" type="pr2_mechanism_model/SimpleTransmission">
    <actuator name="elevator_right_motor"/>
    <joint name="elevator_right_joint"/>
    <mechanicalReduction>1</mechanicalReduction>
  </transmission>
  <link name="wall_elv7">
    <inertial>
      <origin xyz="0 0 0"/>
      <mass value="5.0"/>
      <inertia ixx="0.0" ixy="0.0" ixz="0.0" iyy="0.0" iyz="0.0" izz="0.0"/>
    </inertial>
    <visual>
      <origin xyz="0 0 0"/>
      <geometry>
        <box size="2.4 0.04 2"/>
      </geometry>
      <material name="IPA/Grey"/>
    </visual>
    <collision>
      <origin xyz="0 0 0"/>
      <geometry>
        <box size="2.4 0.04 2"/>
      </geometry>
    </collision>
  </link>
  <gazebo reference="wall_elv7">
    <material>IPA/WallApartment</material>
  </gazebo>
  <joint name="joint_wall_elv7" type="fixed">
    <origin rpy="0 0 0" xyz="1.2 -0.65 0"/>
    <parent link="origin_elevator"/>
    <child link="wall_elv7"/>
  </joint>
  <link name="wall_elv8">
    <inertial>
      <origin xyz="0 0 0"/>
      <mass value="5.0"/>
      <inertia ixx="0.0" ixy="0.0" ixz="0.0" iyy="0.0" iyz="0.0" izz="0.0"/>
    </inertial>
    <visual>
      <origin xyz="0 0 0"/>
      <geometry>
        <box size="2.4 0.04 2"/>
      </geometry>
      <material name="IPA/Grey"/>
    </visual>
    <collision>
      <origin xyz="0 0 0"/>
      <geometry>
        <box size="2.4 0.04 2"/>
      </geometry>
    </collision>
  </link>
  <gazebo reference="wall_elv8">
    <material>IPA/WallApartment</material>
  </gazebo>
  <joint name="joint_wall_elv8" type="fixed">
    <origin rpy="0 0 0" xyz="1.2 -1.52 0"/>
    <parent link="origin_elevator"/>
    <child link="wall_elv8"/>
  </joint>
  <link name="elevator_right2">
    <inertial>
      <origin xyz="0 0 0"/>
      <mass value="5.0"/>
      <inertia ixx="0.0" ixy="0.0" ixz="0.0" iyy="0.0" iyz="0.0" izz="0.0"/>
    </inertial>
    <visual>
      <origin xyz="0 0 0"/>
      <geometry>
        <box size="0.04 0.87 2"/>
      </geometry>
      <material name="IPA/Grey"/>
    </visual>
    <collision>
      <origin xyz="0 0 0"/>
      <geometry>
        <box size="0.04 0.87 2"/>
      </geometry>
    </collision>
  </link>
  <gazebo reference="elevator_right2">
    <material>IPA/WallApartment</material>
  </gazebo>
  <joint name="joint_elevator_right2" type="fixed">
    <origin rpy="0 0 0" xyz="2.4 -1.085 0"/>
    <parent link="origin_elevator"/>
    <child link="elevator_right2"/>
  </joint>
  <link name="elevator_button1">
    <inertial>
      <origin xyz="0 0 0"/>
      <mass value="1.0"/>
      <inertia ixx="0.0" ixy="0.0" ixz="0.0" iyy="0.0" iyz="0.0" izz="0.0"/>
    </inertial>
    <visual>
      <origin xyz="0 0 0"/>
      <geometry>
        <box size="0.01 0.05 0.05"/>
      </geometry>
      <material name="IPA/Red"/>
    </visual>
    <collision>
      <origin xyz="0 0 0"/>
      <geometry>
        <box size="0.01 0.05 0.05"/>
      </geometry>
    </collision>
  </link>
  <joint name="joint_elevator_button1" type="prismatic">
    <origin rpy="0 0 0" xyz="-0.04 0 0.035"/>
    <parent link="origin_elevator"/>
    <child link="elevator_button1"/>
    <calibration rising="0.0"/>
    <dynamics damping="0.0" friction="0.0"/>
    <limit effort="100" lower="0" upper="0" velocity="1.0"/>
    <safety_controller k_velocity="10"/>
  </joint>
  <gazebo reference="elevator_button1">
    <selfCollide>true</selfCollide>
    <sensor name="elevator_button1_contact_sensor" type="contact">
      <always_on>true</always_on>
      <update_rate>10</update_rate>
      <contact>
        <collision>elevator_button1_geom</collision>
      </contact>
      <plugin name="elevator_button1_gazebo_ros_bumper_controller" plugin="libgazebo_ros_bumper.so">
        <alwaysOn>true</alwaysOn>
        <updateRate>10</updateRate>
        <frameName>elevator_button1</frameName>
        <bumperTopicName>elevator_button1_bumper</bumperTopicName>
      </plugin>
    </sensor>
    <material>Gazebo/Red</material>
    <turnGravityOff>false</turnGravityOff>
  </gazebo>
  <link name="elevator_button2">
    <inertial>
      <origin xyz="0 0 0"/>
      <mass value="1.0"/>
      <inertia ixx="0.0" ixy="0.0" ixz="0.0" iyy="0.0" iyz="0.0" izz="0.0"/>
    </inertial>
    <visual>
      <origin xyz="0 0 0"/>
      <geometry>
        <box size="0.01 0.05 0.05"/>
      </geometry>
      <material name="IPA/Red"/>
    </visual>
    <collision>
      <origin xyz="0 0 0"/>
      <geometry>
        <box size="0.01 0.05 0.05"/>
      </geometry>
    </collision>
  </link>
  <joint name="joint_elevator_button2" type="prismatic">
    <origin rpy="0 0 0" xyz="-0.04 0 0.095"/>
    <parent link="origin_elevator"/>
    <child link="elevator_button2"/>
    <calibration rising="0.0"/>
    <dynamics damping="0.0" friction="0.0"/>
    <limit effort="100" lower="0" upper="0" velocity="1.0"/>
    <safety_controller k_velocity="10"/>
  </joint>
  <gazebo reference="elevator_button2">
    <selfCollide>true</selfCollide>
    <sensor name="elevator_button2_contact_sensor" type="contact">
      <always_on>true</always_on>
      <update_rate>10</update_rate>
      <contact>
        <collision>elevator_button2_geom</collision>
      </contact>
      <plugin name="elevator_button2_gazebo_ros_bumper_controller" plugin="libgazebo_ros_bumper.so">
        <alwaysOn>true</alwaysOn>
        <updateRate>10</updateRate>
        <frameName>elevator_button2</frameName>
        <bumperTopicName>elevator_button2_bumper</bumperTopicName>
      </plugin>
    </sensor>
    <material>Gazebo/Red</material>
    <turnGravityOff>false</turnGravityOff>
  </gazebo>
  <link name="wall_ext18">
    <inertial>
      <origin xyz="0 0 0"/>
      <mass value="5.0"/>
      <inertia ixx="0.0" ixy="0.0" ixz="0.0" iyy="0.0" iyz="0.0" izz="0.0"/>
    </inertial>
    <visual>
      <origin xyz="0 0 0"/>
      <geometry>
        <box size="0.04 1.74 2"/>
      </geometry>
      <material name="IPA/Grey"/>
    </visual>
    <collision>
      <origin xyz="0 0 0"/>
      <geometry>
        <box size="0.04 1.74 2"/>
      </geometry>
    </collision>
  </link>
  <gazebo reference="wall_ext18">
    <material>IPA/WallApartment</material>
  </gazebo>
  <joint name="joint_wall_ext18" type="fixed">
    <origin rpy="0 0 0" xyz="0 2.39 0"/>
    <parent link="origin_elevator"/>
    <child link="wall_ext18"/>
  </joint>
  <link name="wall_ext19">
    <inertial>
      <origin xyz="0 0 0"/>
      <mass value="5.0"/>
      <inertia ixx="0.0" ixy="0.0" ixz="0.0" iyy="0.0" iyz="0.0" izz="0.0"/>
    </inertial>
    <visual>
      <origin xyz="0 0 0"/>
      <geometry>
        <box size="0.04 1.74 2"/>
      </geometry>
      <material name="IPA/Grey"/>
    </visual>
    <collision>
      <origin xyz="0 0 0"/>
      <geometry>
        <box size="0.04 1.74 2"/>
      </geometry>
    </collision>
  </link>
  <gazebo reference="wall_ext19">
    <material>IPA/WallApartment</material>
  </gazebo>
  <joint name="joint_wall_ext19" type="fixed">
    <origin rpy="0 0 0" xyz="0 -2.39 0"/>
    <parent link="origin_elevator"/>
    <child link="wall_ext19"/>
  </joint>
  <link name="wall_ext20">
    <inertial>
      <origin xyz="0 0 0"/>
      <mass value="5.0"/>
      <inertia ixx="0.0" ixy="0.0" ixz="0.0" iyy="0.0" iyz="0.0" izz="0.0"/>
    </inertial>
    <visual>
      <origin xyz="0 0 0"/>
      <geometry>
        <box size="0.04 1.3 2"/>
      </geometry>
      <material name="IPA/Grey"/>
    </visual>
    <collision>
      <origin xyz="0 0 0"/>
      <geometry>
        <box size="0.04 1.3 2"/>
      </geometry>
    </collision>
  </link>
  <gazebo reference="wall_ext20">
    <material>IPA/WallApartment</material>
  </gazebo>
  <joint name="joint_wall_ext20" type="fixed">
    <origin rpy="0 0 0" xyz="0 0 0"/>
    <parent link="origin_elevator"/>
    <child link="wall_ext20"/>
  </joint>
  <link name="cabinet1">
    <inertial>
      <origin xyz="0 0 0"/>
      <mass value="5.0"/>
      <inertia ixx="0.0" ixy="0.0" ixz="0.0" iyy="0.0" iyz="0.0" izz="0.0"/>
    </inertial>
    <visual>
      <origin xyz="0 0 0"/>
      <geometry>
        <box size="1.15 0.55 2.40"/>
      </geometry>
      <material name="IPA/LightBlue"/>
    </visual>
    <collision>
      <origin xyz="0 0 0"/>
      <geometry>
        <box size="1.15 0.55 2.40"/>
      </geometry>
    </collision>
  </link>
  <gazebo reference="cabinet1">
    <material>IPA/CabinetBlue</material>
  </gazebo>
  <joint name="joint_cabinet1" type="fixed">
    <origin rpy="0 0 0" xyz="4.844 -5.245 1.2"/>
    <parent link="dummy_link"/>
    <child link="cabinet1"/>
  </joint>
  <link name="cabinet2">
    <inertial>
      <origin xyz="0 0 0"/>
      <mass value="5.0"/>
      <inertia ixx="0.0" ixy="0.0" ixz="0.0" iyy="0.0" iyz="0.0" izz="0.0"/>
    </inertial>
    <visual>
      <origin xyz="0 0 0"/>
      <geometry>
        <box size="1.15 0.55 2.40"/>
      </geometry>
      <material name="IPA/LightBlue"/>
    </visual>
    <collision>
      <origin xyz="0 0 0"/>
      <geometry>
        <box size="1.15 0.55 2.40"/>
      </geometry>
    </collision>
  </link>
  <gazebo reference="cabinet2">
    <material>IPA/CabinetBlue</material>
  </gazebo>
  <joint name="joint_cabinet2" type="fixed">
    <origin rpy="0 0 0" xyz="1.104 -5.245 1.2"/>
    <parent link="dummy_link"/>
    <child link="cabinet2"/>
  </joint>
  <link name="cabinet3">
    <inertial>
      <origin xyz="0 0 0"/>
      <mass value="5.0"/>
      <inertia ixx="0.0" ixy="0.0" ixz="0.0" iyy="0.0" iyz="0.0" izz="0.0"/>
    </inertial>
    <visual>
      <origin xyz="0 0 0"/>
      <geometry>
        <box size="1.15 0.55 2.40"/>
      </geometry>
      <material name="IPA/LightBlue"/>
    </visual>
    <collision>
      <origin xyz="0 0 0"/>
      <geometry>
        <box size="1.15 0.55 2.40"/>
      </geometry>
    </collision>
  </link>
  <gazebo reference="cabinet3">
    <material>IPA/CabinetBlue</material>
  </gazebo>
  <joint name="joint_cabinet3" type="fixed">
    <origin rpy="0 0 0" xyz="-1.236 -5.245 1.2"/>
    <parent link="dummy_link"/>
    <child link="cabinet3"/>
  </joint>
  <link name="column">
    <inertial>
      <origin xyz="0 0 0"/>
      <mass value="5.0"/>
      <inertia ixx="0.0" ixy="0.0" ixz="0.0" iyy="0.0" iyz="0.0" izz="0.0"/>
    </inertial>
    <visual>
      <origin xyz="0 0 0"/>
      <geometry>
        <box size="0.36 0.36 2"/>
      </geometry>
      <material name="IPA/LightBlue"/>
    </visual>
    <collision>
      <origin xyz="0 0 0"/>
      <geometry>
        <box size="0.36 0.36 2"/>
      </geometry>
    </collision>
  </link>
  <gazebo reference="column">
    <material>IPA/WallApartment</material>
  </gazebo>
  <joint name="joint_column" type="fixed">
    <origin rpy="0 0 0" xyz="2.009 -5.15 1.0"/>
    <parent link="dummy_link"/>
    <child link="column"/>
  </joint>
  <link name="kitchen_left">
    <inertial>
      <origin xyz="0 0 0"/>
      <mass value="5.0"/>
      <inertia ixx="0.0" ixy="0.0" ixz="0.0" iyy="0.0" iyz="0.0" izz="0.0"/>
    </inertial>
    <visual>
      <origin xyz="0 0 0"/>
      <geometry>
        <mesh filename="package://cob_gazebo_worlds/Media/materials/textures/kitchen_right.dae"/>
      </geometry>
    </visual>
    <collision>
      <origin xyz="0 0 0"/>
      <geometry>
        <box size="0.66 0.62 1.44"/>
      </geometry>
    </collision>
  </link>
  <gazebo reference="kitchen_left">
	</gazebo>
  <joint name="joint_kitchen_left" type="fixed">
    <origin rpy="0 0 0" xyz="-1.691 -1.725 0.720"/>
    <parent link="dummy_link"/>
    <child link="kitchen_left"/>
  </joint>
  <link name="kitchen_middle">
    <inertial>
      <origin xyz="0 0 0"/>
      <mass value="5.0"/>
      <inertia ixx="0.0" ixy="0.0" ixz="0.0" iyy="0.0" iyz="0.0" izz="0.0"/>
    </inertial>
    <visual>
      <origin xyz="0 0 0"/>
      <geometry>
        <mesh filename="package://cob_gazebo_worlds/Media/materials/textures/kitchen_middle.dae"/>
      </geometry>
    </visual>
    <collision>
      <origin xyz="0 0 0"/>
      <geometry>
        <box size="0.66 1.80 0.90"/>
      </geometry>
    </collision>
  </link>
  <gazebo reference="kitchen_middle">
	</gazebo>
  <joint name="joint_kitchen_middle" type="fixed">
    <origin rpy="0 0 0" xyz="-1.691 -0.515 0.450"/>
    <parent link="dummy_link"/>
    <child link="kitchen_middle"/>
  </joint>
  <link name="kitchen_right">
    <inertial>
      <origin xyz="0 0 0"/>
      <mass value="5.0"/>
      <inertia ixx="0.0" ixy="0.0" ixz="0.0" iyy="0.0" iyz="0.0" izz="0.0"/>
    </inertial>
    <visual>
      <origin xyz="0 0 0"/>
      <geometry>
        <mesh filename="package://cob_gazebo_worlds/Media/materials/textures/kitchen_left.dae"/>
      </geometry>
    </visual>
    <collision>
      <origin xyz="0 0 0"/>
      <geometry>
        <box size="0.66 0.62 1.44"/>
      </geometry>
    </collision>
  </link>
  <gazebo reference="kitchen_right">
	</gazebo>
  <joint name="joint_kitchen_right" type="fixed">
    <origin rpy="0 0 0" xyz="-1.691 0.695 0.720"/>
    <parent link="dummy_link"/>
    <child link="kitchen_right"/>
  </joint>
  <link name="wall_ipa">
    <inertial>
      <origin xyz="0 0 0"/>
      <mass value="5.0"/>
      <inertia ixx="0.0" ixy="0.0" ixz="0.0" iyy="0.0" iyz="0.0" izz="0.0"/>
    </inertial>
    <visual>
      <origin xyz="0 0 0"/>
      <geometry>
        <box size="0.77 0.10 2.40"/>
      </geometry>
      <material name="IPA/Grey"/>
    </visual>
    <collision>
      <origin xyz="0 0 0"/>
      <geometry>
        <box size="0.77 0.10 2.40"/>
      </geometry>
    </collision>
  </link>
  <gazebo reference="wall_ipa">
    <material>IPA/Wall3</material>
  </gazebo>
  <joint name="joint_wall_ipa" type="fixed">
    <origin rpy="0 0 0" xyz="2.574 -5.345 1.21"/>
    <parent link="dummy_link"/>
    <child link="wall_ipa"/>
  </joint>
</robot>
